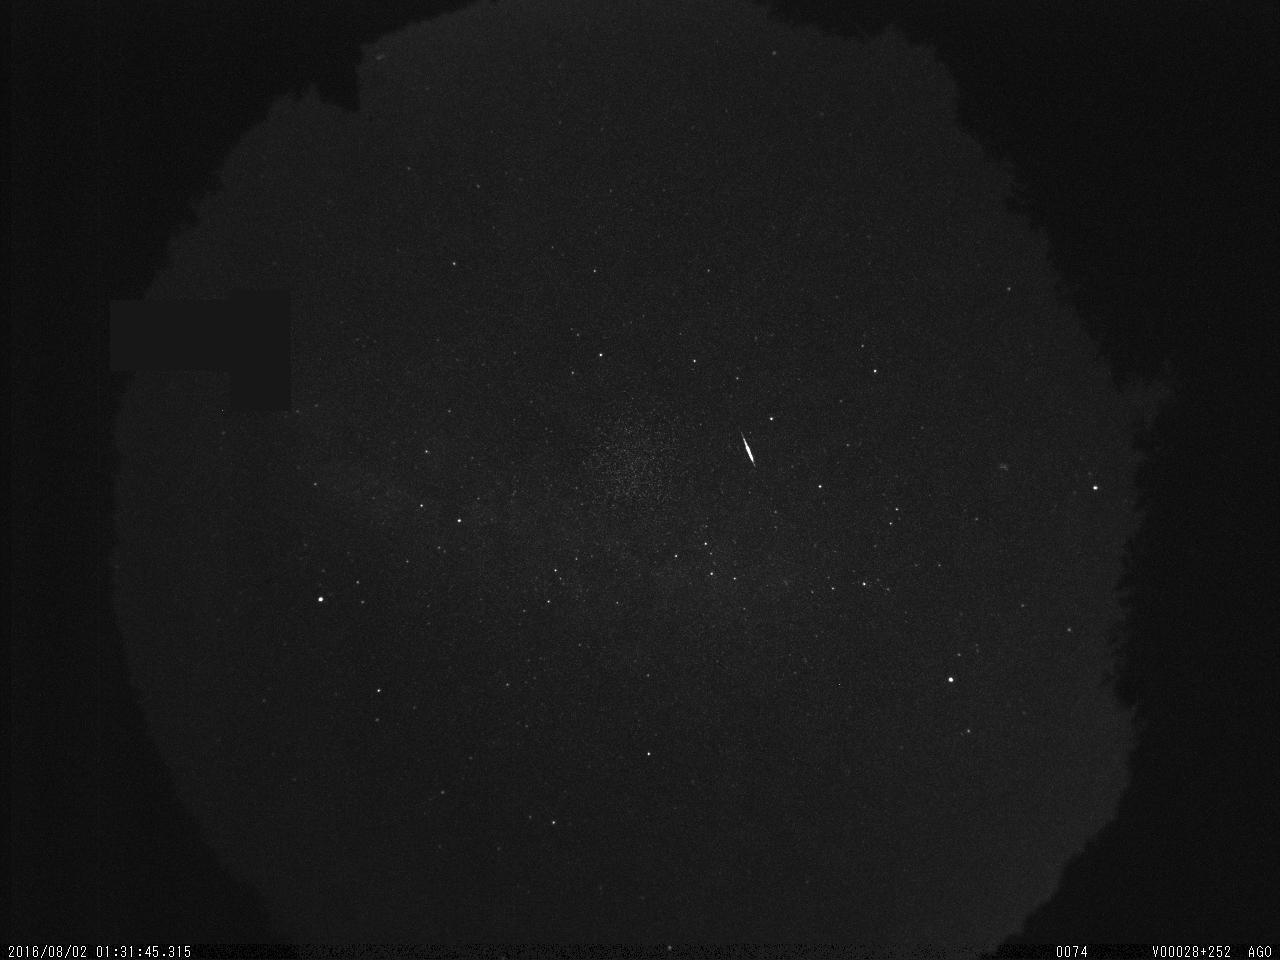meteor: (734, 423, 774, 476)
